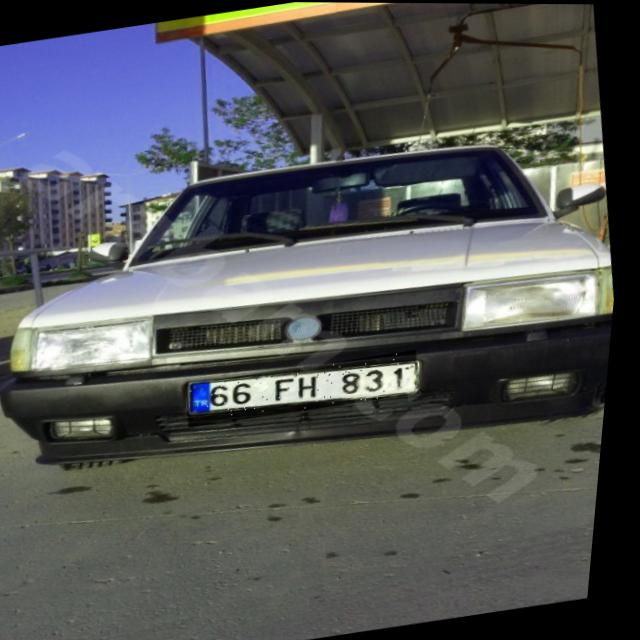license_plate: (190, 348, 429, 428)
